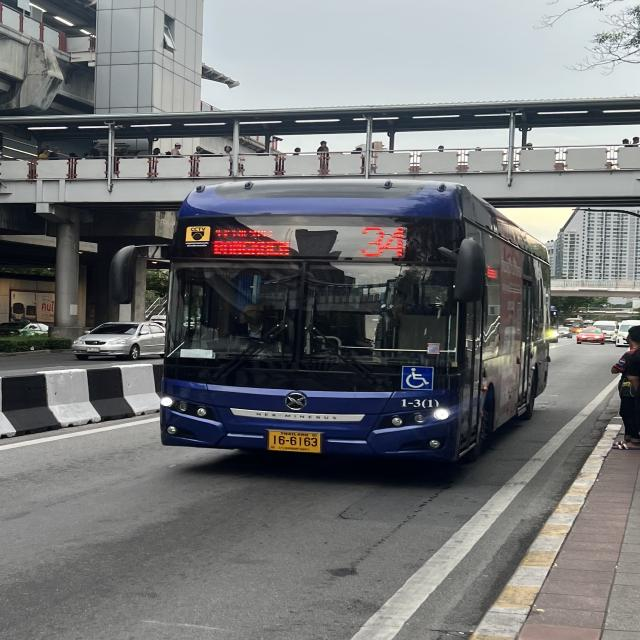Bus Line Number: (357, 221, 410, 263)
Bus Side Number: (396, 395, 441, 411)
Destination Sign: (210, 222, 300, 260)
TSB-Bus: (157, 180, 553, 467)
